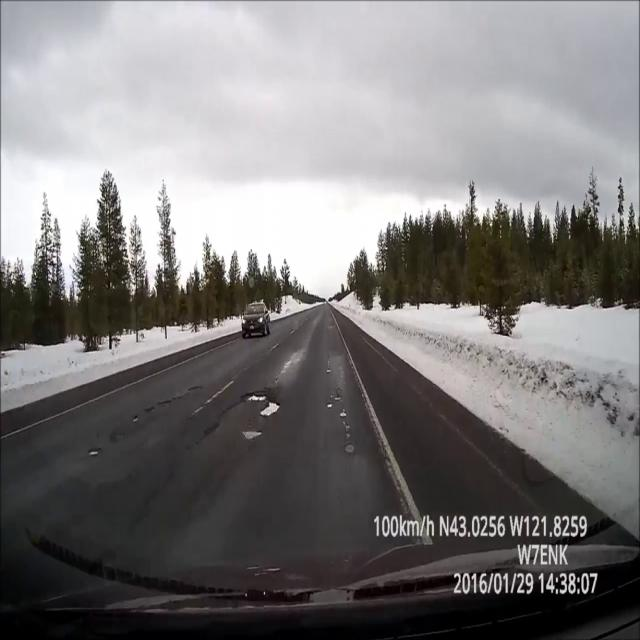Pothole: (259, 400, 282, 418), (244, 393, 266, 401)
